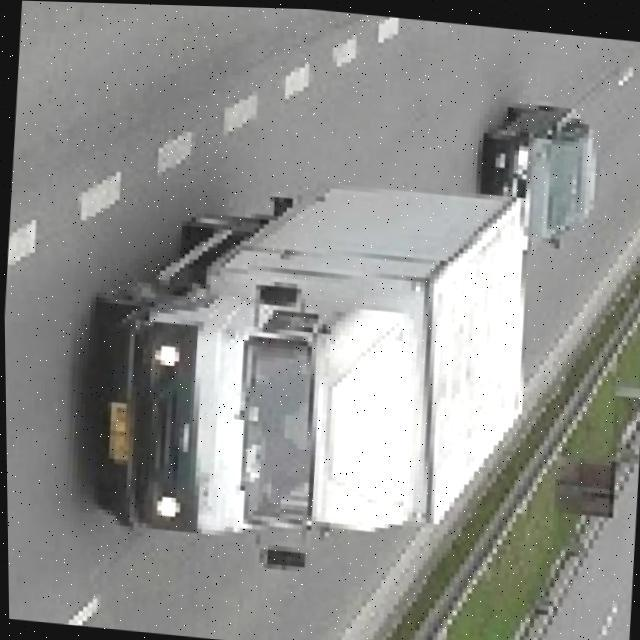truck: (80, 159, 547, 589)
